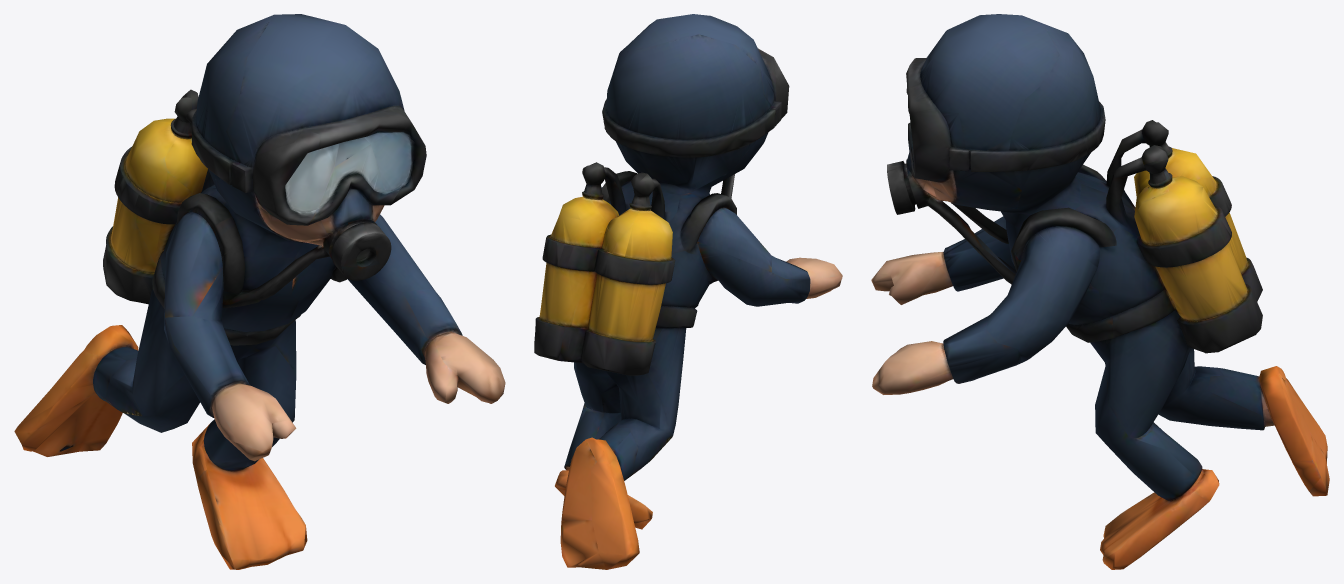
File: diver_pbr.glb
The picture shows the model from 3 angles, left to right: view 1: azimuth 30°, elevation 25°; view 2: azimuth 150°, elevation 25°; view 3: azimuth 270°, elevation 25°; orthographic projection. The views are drawn at different scales.
Parts seen in each view (by area): view 1: model; view 2: model; view 3: model.
Boxes of the visible parts, x1,y1,x2,y2 form: model: (14,14,505,569); model: (534,14,842,569); model: (871,14,1329,569).
Bounding box in the file's own units: 0.8724 × 1.82 × 1.45.
Materials: 1 (1 with a texture image).
